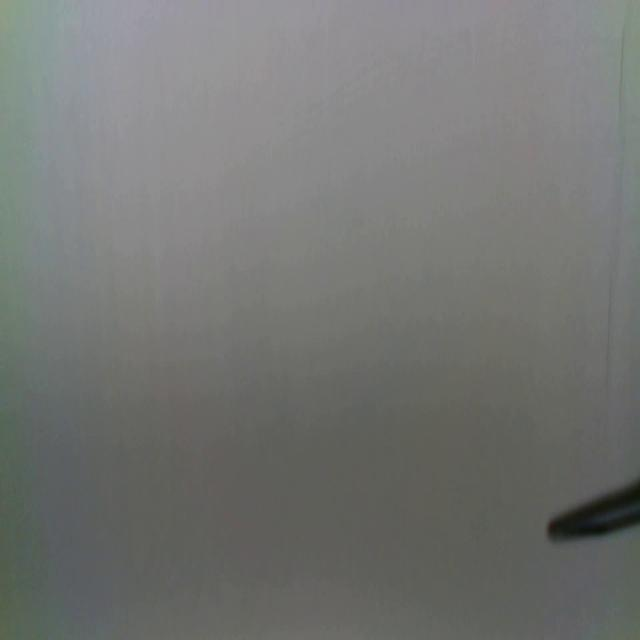crease: (600, 24, 628, 388)
